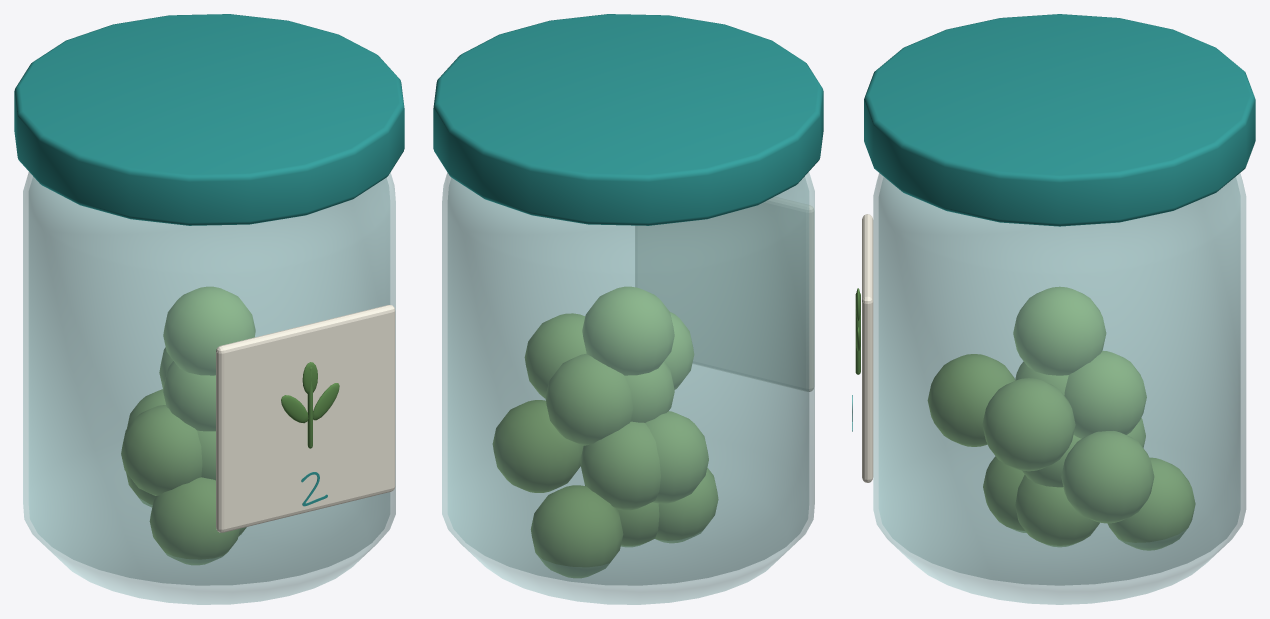
File: harvest_jar_q2.glb
3 views of the same model, side by side, from view 1: azimuth 30°, elevation 25°; view 2: azimuth 150°, elevation 25°; view 3: azimuth 270°, elevation 25° (orthographic).
Visible parts, largest first — view 1: Glass_jar, Lid, Label, Contents_on_bottom.012, Contents_on_bottom.004, Contents_on_bottom.001, Contents_on_bottom.009, Contents_on_bottom.006, Contents_on_bottom.007; view 2: Glass_jar, Lid, Label, Contents_on_bottom.002, Contents_on_bottom.012, Contents_on_bottom.010, Contents_on_bottom.005, Contents_on_bottom.007, Contents_on_bottom.004, Contents_on_bottom.008, Contents_on_bottom.001, Contents_on_bottom.009 (+2 smaller); view 3: Glass_jar, Lid, Contents_on_bottom.008, Contents_on_bottom.005, Contents_on_bottom.012, Contents_on_bottom.010, Contents_on_bottom.011, Contents_on_bottom.002, Contents_on_bottom, Label, Contents_on_bottom.001, Contents_on_bottom.006 (+1 smaller).
Part boxes in pixels (x1,y1,x2,y2): Glass_jar: (23, 172, 395, 604); Lid: (14, 14, 404, 225); Label: (216, 305, 395, 532); Contents_on_bottom.012: (163, 286, 255, 375); Contents_on_bottom.004: (121, 405, 202, 495); Contents_on_bottom.001: (149, 477, 239, 564); Contents_on_bottom.009: (163, 361, 215, 431); Contents_on_bottom.006: (197, 430, 215, 480); Contents_on_bottom.007: (127, 389, 165, 428); Glass_jar: (442, 172, 814, 604); Lid: (433, 14, 823, 225); Label: (635, 197, 814, 391); Contents_on_bottom.002: (531, 485, 623, 577); Contents_on_bottom.012: (582, 286, 674, 375); Contents_on_bottom.010: (545, 354, 633, 445); Contents_on_bottom.005: (492, 400, 583, 492); Contents_on_bottom.007: (580, 421, 660, 510); Contents_on_bottom.004: (645, 411, 708, 503); Contents_on_bottom.008: (524, 313, 586, 398); Contents_on_bottom.001: (655, 468, 718, 542); Contents_on_bottom.009: (625, 361, 674, 422); Glass_jar: (873, 173, 1246, 604); Lid: (864, 14, 1255, 226); Contents_on_bottom.008: (982, 378, 1075, 471); Contents_on_bottom.005: (1061, 431, 1154, 523); Contents_on_bottom.012: (1013, 286, 1106, 375); Contents_on_bottom.010: (1064, 351, 1146, 438); Contents_on_bottom.011: (927, 354, 1015, 446); Contents_on_bottom.002: (1108, 457, 1195, 550); Contents_on_bottom: (1015, 475, 1099, 546); Label: (862, 214, 873, 482); Contents_on_bottom.001: (983, 456, 1026, 532); Contents_on_bottom.006: (1022, 435, 1080, 487).
Size of the model in its own units: 0.21 by 0.27 by 0.2162.
